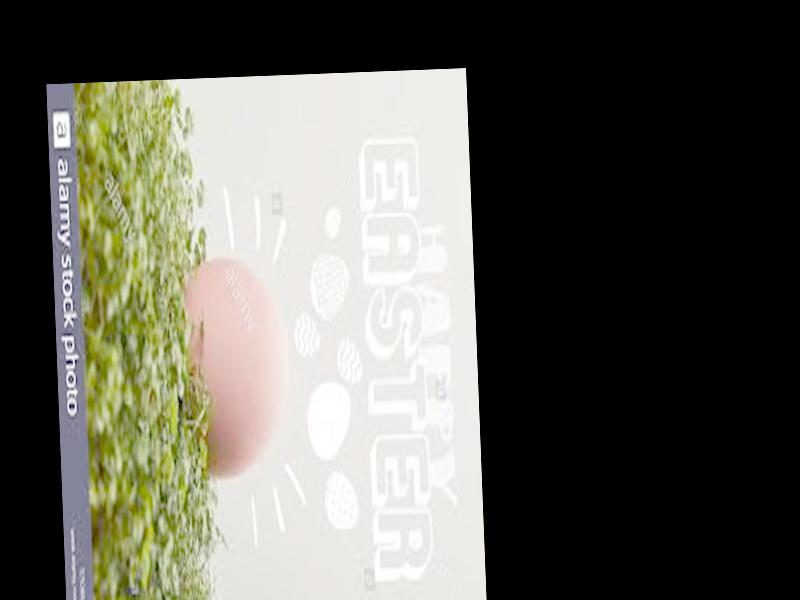Eggs: (182, 259, 291, 484)
